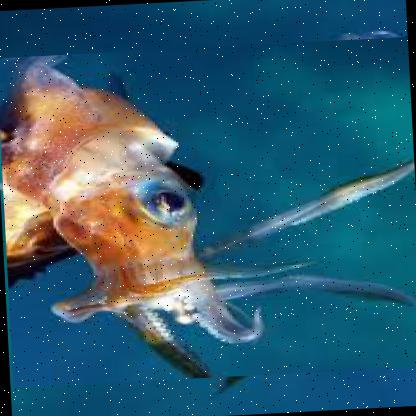colossal_squid: (0, 35, 415, 389)
